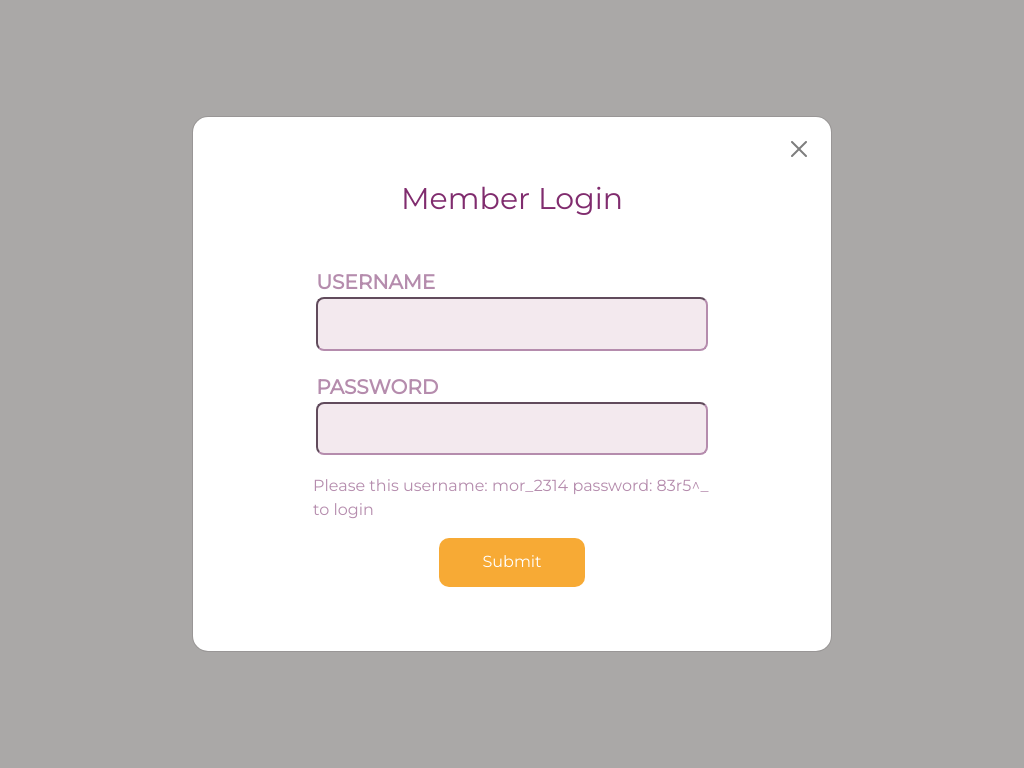
Test: MemberLoginModal › 測試尚未輸入 username 和 password 情況
Click the button "Submit" at [512, 562], box [439,538,585,587]
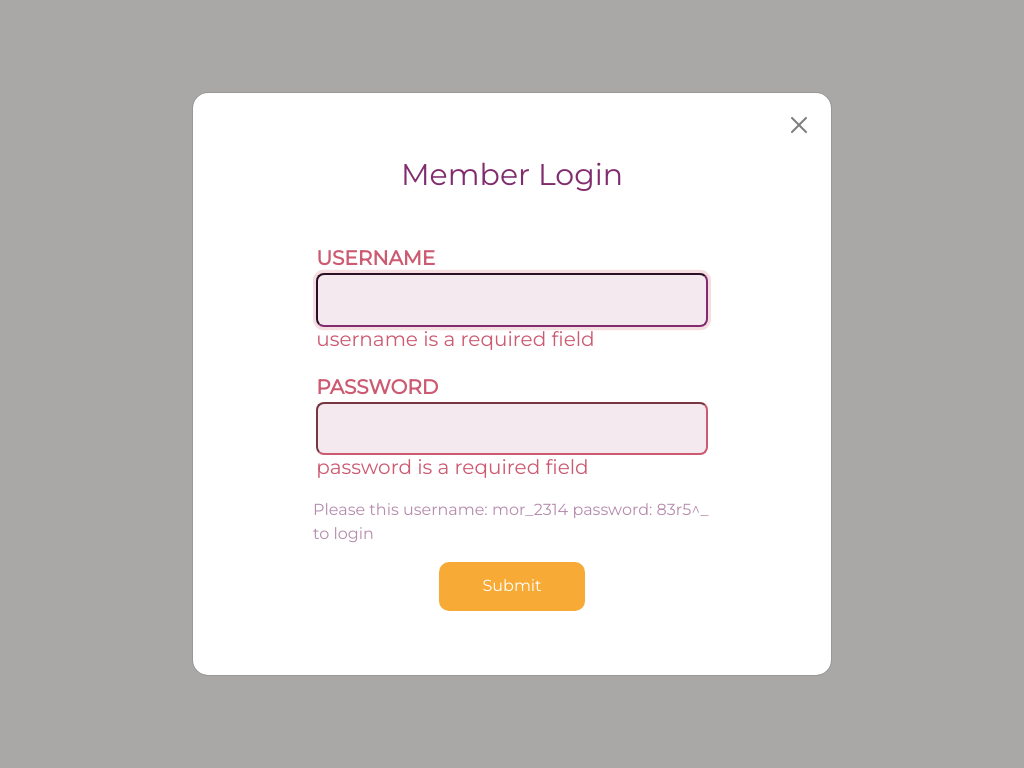
Result: the text named "input-error-username" reads "username is a required field" at [316,326,595,350]
Result: the text named "input-error-password" reads "password is a required field" at [316,456,589,480]
